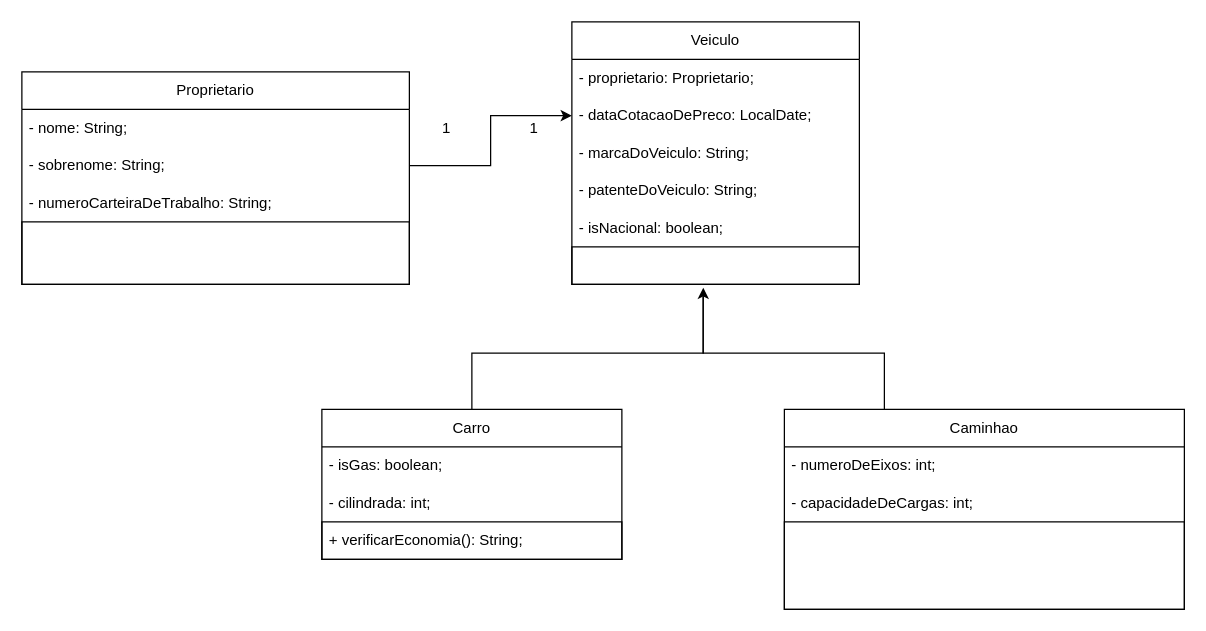
The diagram is 1206 pixels wide and 631 high, and some of its shapes have lost their labels. The centre of each missing label's shape, as x and y in pixels:
"+ compareTo(Caminhao o): int; + compararCaminhoes(Caminhao o): String;" belongs at point (983, 565).
"+ Proprietario(String nome, String sobrenome, String numeroCarteiraDeTrabalho);" belongs at point (215, 252).
"+ verificarNacionalidade(): String;" belongs at point (715, 265).
